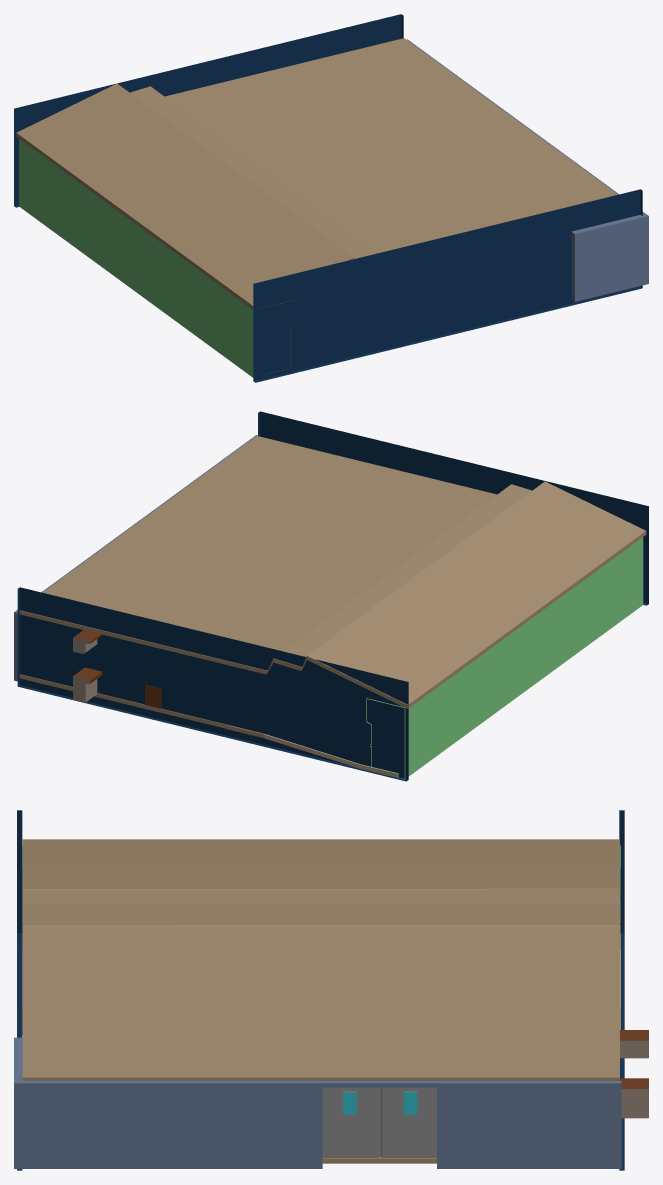
The model's file is bowling alley Full.fbx.
3 views of the same model, one above another, from view 1: azimuth 30°, elevation 25°; view 2: azimuth 150°, elevation 25°; view 3: azimuth 270°, elevation 25° (orthographic). The views are drawn at different scales.
Parts seen in each view (by area): view 1: 001. Ceiling, Cube.007, Cube.005; view 2: 001. Ceiling, Cube.007, Cube.005, Cube.009; view 3: 001. Ceiling, Cube.005, Cube.012, Cube.007.
Boxes of the visible parts, bbox=[...] form: 001. Ceiling: bbox=[16, 38, 617, 309]; Cube.007: bbox=[14, 14, 642, 382]; Cube.005: bbox=[406, 39, 648, 301]; 001. Ceiling: bbox=[19, 436, 646, 708]; Cube.007: bbox=[17, 411, 648, 781]; Cube.005: bbox=[14, 435, 257, 728]; Cube.009: bbox=[226, 724, 397, 777]; 001. Ceiling: bbox=[22, 839, 619, 1080]; Cube.005: bbox=[14, 1030, 648, 1168]; Cube.012: bbox=[322, 1087, 436, 1157]; Cube.007: bbox=[17, 810, 624, 1170].
Size of the model in its own units: 20636 by 4990 by 22983.
